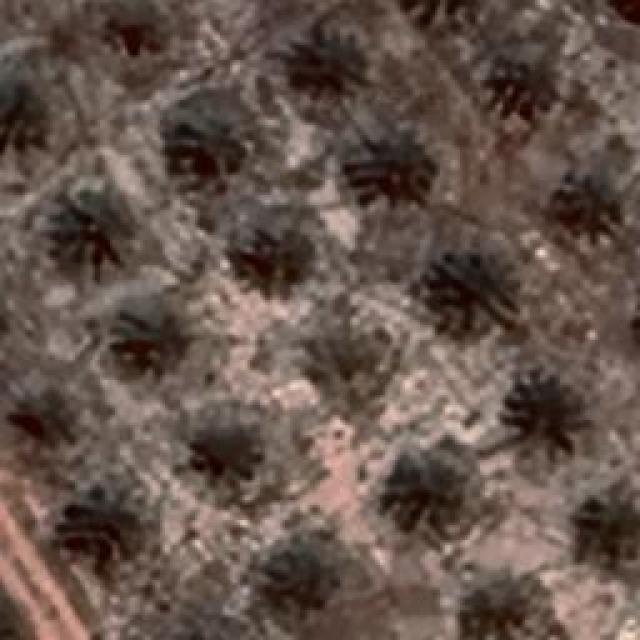PalmTree: (42, 12, 443, 418), (376, 434, 484, 524), (338, 118, 438, 200), (427, 247, 515, 335), (56, 490, 152, 568), (502, 366, 586, 454), (58, 185, 140, 270), (304, 320, 392, 396), (108, 301, 190, 381), (464, 575, 562, 640), (172, 108, 250, 182), (240, 222, 315, 298), (258, 540, 336, 610), (292, 27, 372, 95), (551, 166, 619, 246), (578, 480, 638, 565), (101, 0, 174, 65), (195, 428, 270, 484), (0, 72, 52, 152), (500, 55, 568, 113), (0, 588, 31, 640), (601, 0, 640, 27), (606, 1, 640, 23)
